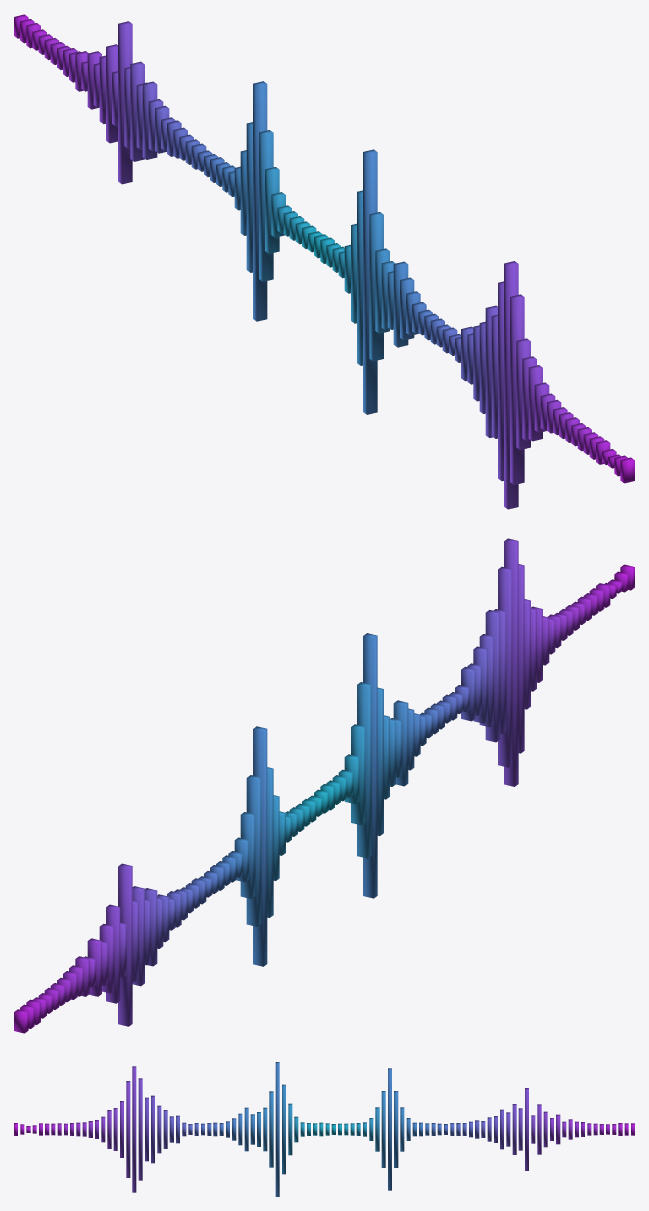
File: AudioViz.fbx
3 renders of one model, top to bottom at view 1: azimuth 30°, elevation 25°; view 2: azimuth 150°, elevation 25°; view 3: azimuth 270°, elevation 25°, orthographic. The views are drawn at different scales.
Visible parts, largest first — view 1: Plane.031; view 2: Plane.031; view 3: Plane.031.
Part boxes in pixels (box(x1,y1,x2,y2)): Plane.031: box(14, 14, 634, 509); Plane.031: box(14, 538, 634, 1033); Plane.031: box(14, 1062, 634, 1196).
Size of the model in its own units: 10 by 234 by 997.
